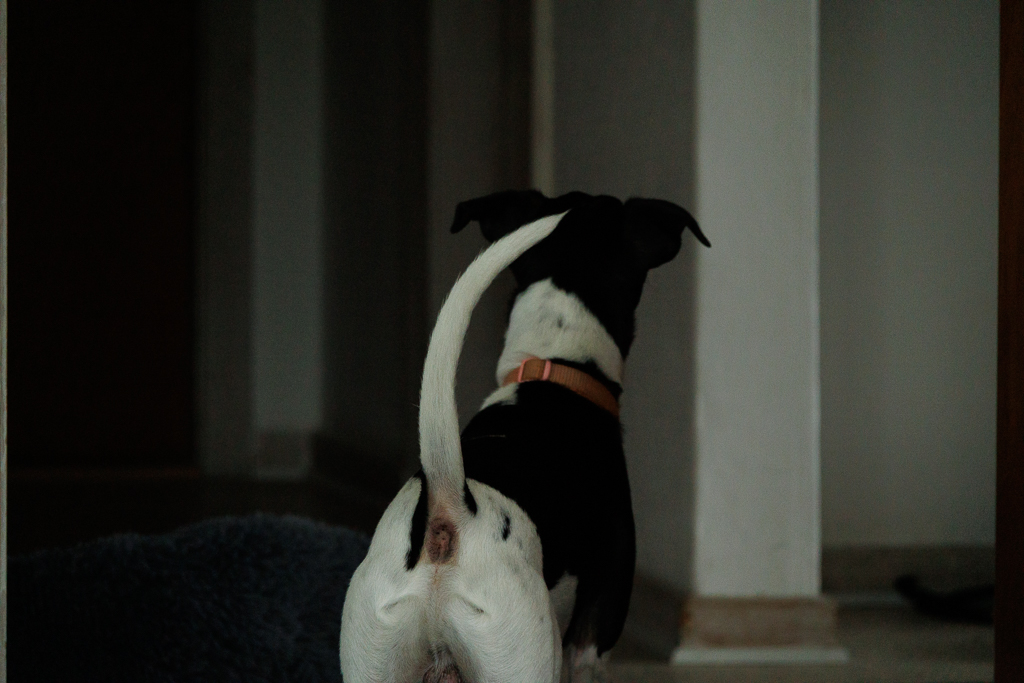Dog: (327, 179, 721, 683)
